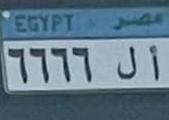6: (75, 37, 93, 87), (51, 40, 70, 85), (7, 46, 28, 85), (31, 41, 49, 82)
أ: (144, 43, 162, 85)
ل: (115, 41, 144, 84)
